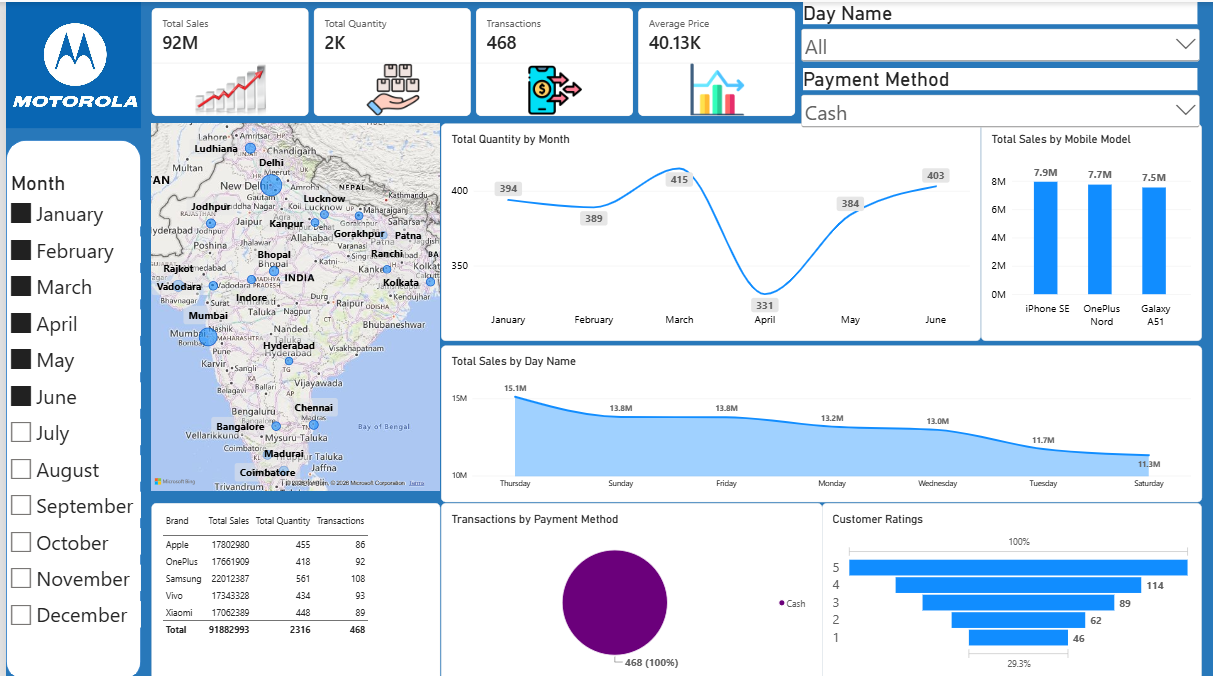

This screenshot's page, from the dashboard's own definition file:
{"tool":"powerbi","page":{"name":"Page 1","canvas":[1920,1080],"ordinal":0},"visuals":[{"type":"shape","box":[0,219.5,214.7,861.3],"z":0},{"type":"image","box":[0,0,214.7,200.4],"z":1000},{"type":"slicer","fields":{"Values":["Sales_Data.Date.Variation.Date Hierarchy.Month"]},"box":[0,269.6,214.7,773],"z":2000},{"type":"cardVisual","fields":{"Data":["Sales_Data.Total_Sales","Sales_Data.Total Quantity","Sales_Data.Transactions","Sales_Data.Average Price"]},"box":[232.4,8.5,1026.1,172.9],"z":3000},{"type":"map","fields":{"Category":["Sales_Data.City"],"Size":["Sales_Data.Total Sales"]},"box":[232.4,192.8,459.2,583.9],"z":4000},{"type":"columnChart","fields":{"Category":["Sales_Data.Mobile Model"],"Y":["Sales_Data.Total Sales"]},"box":[1550.6,192.8,351.5,345.8],"z":5000},{"type":"lineChart","fields":{"Category":["Sales_Data.Date.Variation.Date Hierarchy.Month","Sales_Data.Date.Variation.Date Hierarchy.Day"],"Y":["Sales_Data.Total Quantity"]},"box":[691.7,192.8,858.9,345.8],"z":6000},{"type":"pieChart","fields":{"Category":["Sales_Data.Payment Method"],"Y":["Sales_Data.Transactions"]},"box":[691.7,796.5,606.6,283.5],"z":6001},{"type":"funnel","title":" Customer Ratings","fields":{"Category":["Sales_Data.Customer Ratings"],"Y":["CountNonNull(Sales_Data.Customer Ratings)"]},"box":[1298.3,796.5,603.8,283.5],"z":6002},{"type":"areaChart","fields":{"Category":["Sales_Data.Day Name"],"Y":["Sales_Data.Total Sales"]},"box":[691.7,547.1,1210.4,249.5],"z":6003},{"type":"tableEx","fields":{"Values":["Sales_Data.Brand","Sales_Data.Total Sales","Sales_Data.Total Quantity","Sales_Data.Transactions"]},"box":[232.4,796.5,459.2,283.5],"z":6004},{"type":"slicer","fields":{"Values":["Sales_Data.Payment Method"]},"box":[1258.6,104.9,643.5,96.4],"z":6006},{"type":"slicer","fields":{"Values":["Sales_Data.Day Name"]},"box":[1258.6,0,643.5,104.9],"z":6007}]}

Visuals, with their boxes in screenshot pixels (x1, y1, x2, y2), scaled from the page's 1920x1080 canvas onto the 1213x676 screenshot:
shape: region(0, 137, 136, 675)
image: region(0, 0, 136, 125)
slicer - Sales_Data.Date.Variation.Date Hierarchy.Month: region(0, 169, 136, 653)
cardVisual - Sales_Data.Total_Sales x Sales_Data.Total Quantity: region(147, 5, 795, 114)
map - Sales_Data.City x Sales_Data.Total Sales: region(147, 121, 437, 486)
columnChart - Sales_Data.Mobile Model x Sales_Data.Total Sales: region(980, 121, 1202, 337)
lineChart - Sales_Data.Date.Variation.Date Hierarchy.Month x Sales_Data.Date.Variation.Date Hierarchy.Day: region(437, 121, 980, 337)
pieChart - Sales_Data.Payment Method x Sales_Data.Transactions: region(437, 499, 820, 675)
" Customer Ratings" funnel: region(820, 499, 1202, 675)
areaChart - Sales_Data.Day Name x Sales_Data.Total Sales: region(437, 342, 1202, 499)
tableEx - Sales_Data.Brand x Sales_Data.Total Sales: region(147, 499, 437, 675)
slicer - Sales_Data.Payment Method: region(795, 66, 1202, 126)
slicer - Sales_Data.Day Name: region(795, 0, 1202, 66)
